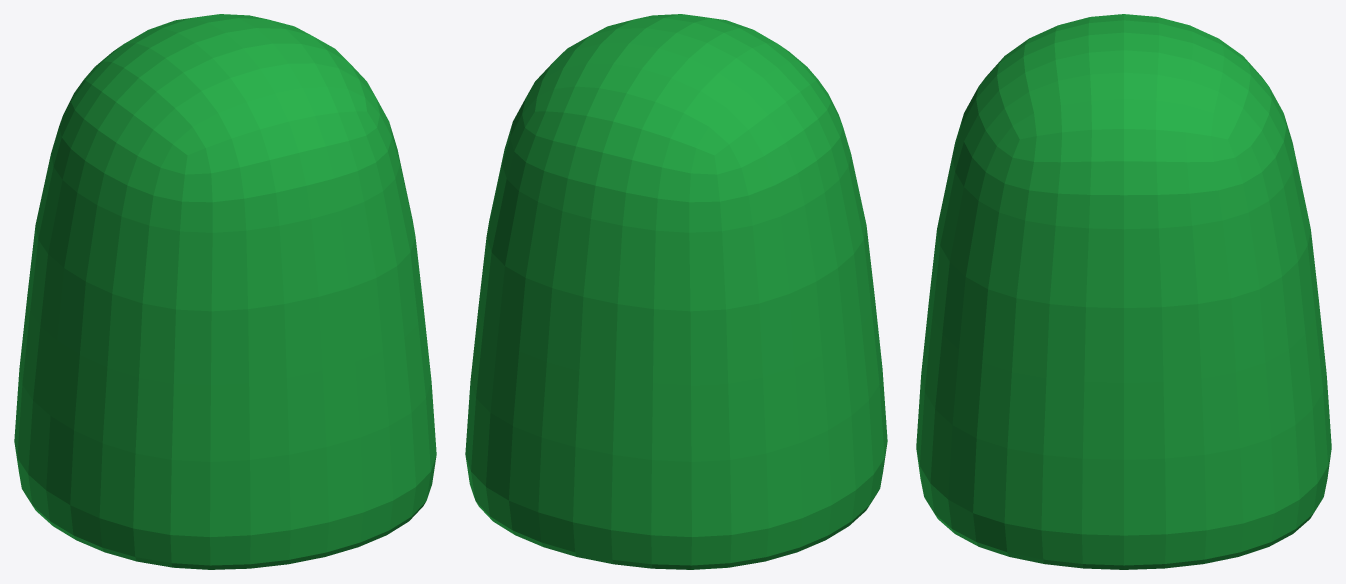
The model's file is Tree2.fbx.
The picture shows the model from 3 angles, left to right: view 1: azimuth 30°, elevation 25°; view 2: azimuth 150°, elevation 25°; view 3: azimuth 270°, elevation 25°; orthographic projection.
Visible parts, largest first — view 1: Tree4.032; view 2: Tree4.032; view 3: Tree4.032.
Part boxes in pixels (x1,y1,x2,y2): Tree4.032: [14, 14, 436, 569]; Tree4.032: [465, 14, 887, 569]; Tree4.032: [916, 14, 1331, 569].
Bounding box in the file's own units: 4.94 × 6.68 × 4.94.
